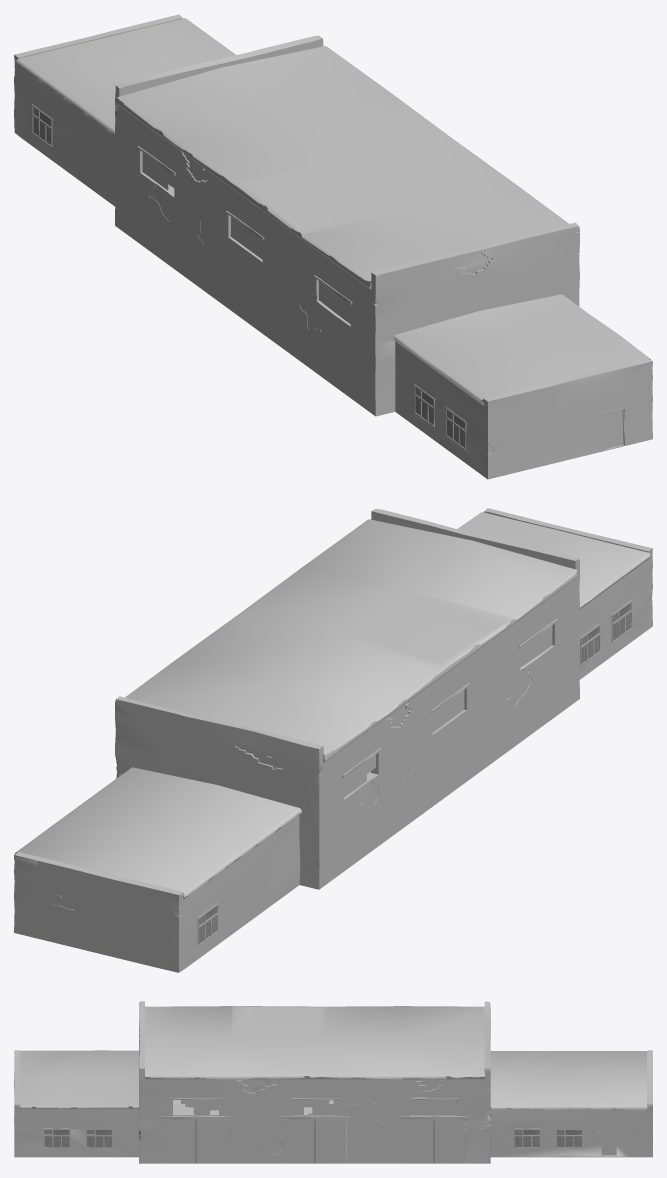
The model's file is Warehouse_Building.FBX.
3 views of the same model, one above another, from view 1: azimuth 30°, elevation 25°; view 2: azimuth 150°, elevation 25°; view 3: azimuth 270°, elevation 25° (orthographic). The views are drawn at different scales.
Visible parts, largest first — view 1: Warehouse_Building; view 2: Warehouse_Building; view 3: Warehouse_Building, DoorsWarehouse_Building_3_01, Doors_Warehouse_Building2_01, Doors_Warehouse_Building1_01, DoorsWarehouse_Building3_02, Doors_Warehouse_Building2_02, Doors_Warehouse_Building1_02, Door_House_01.
Boxes of the visible parts, box(x1,y1,x2,y2) form: Warehouse_Building: box(14, 14, 652, 479); Warehouse_Building: box(14, 508, 652, 972); Warehouse_Building: box(14, 1001, 652, 1163); DoorsWarehouse_Building_3_01: box(401, 1119, 436, 1163); Doors_Warehouse_Building2_01: box(282, 1119, 317, 1163); Doors_Warehouse_Building1_01: box(163, 1119, 198, 1163); DoorsWarehouse_Building3_02: box(436, 1119, 466, 1163); Doors_Warehouse_Building2_02: box(317, 1119, 347, 1163); Doors_Warehouse_Building1_02: box(198, 1119, 228, 1163); Door_House_01: box(602, 1132, 615, 1155).
Size of the model in its own units: 1138 by 4343 by 721.
